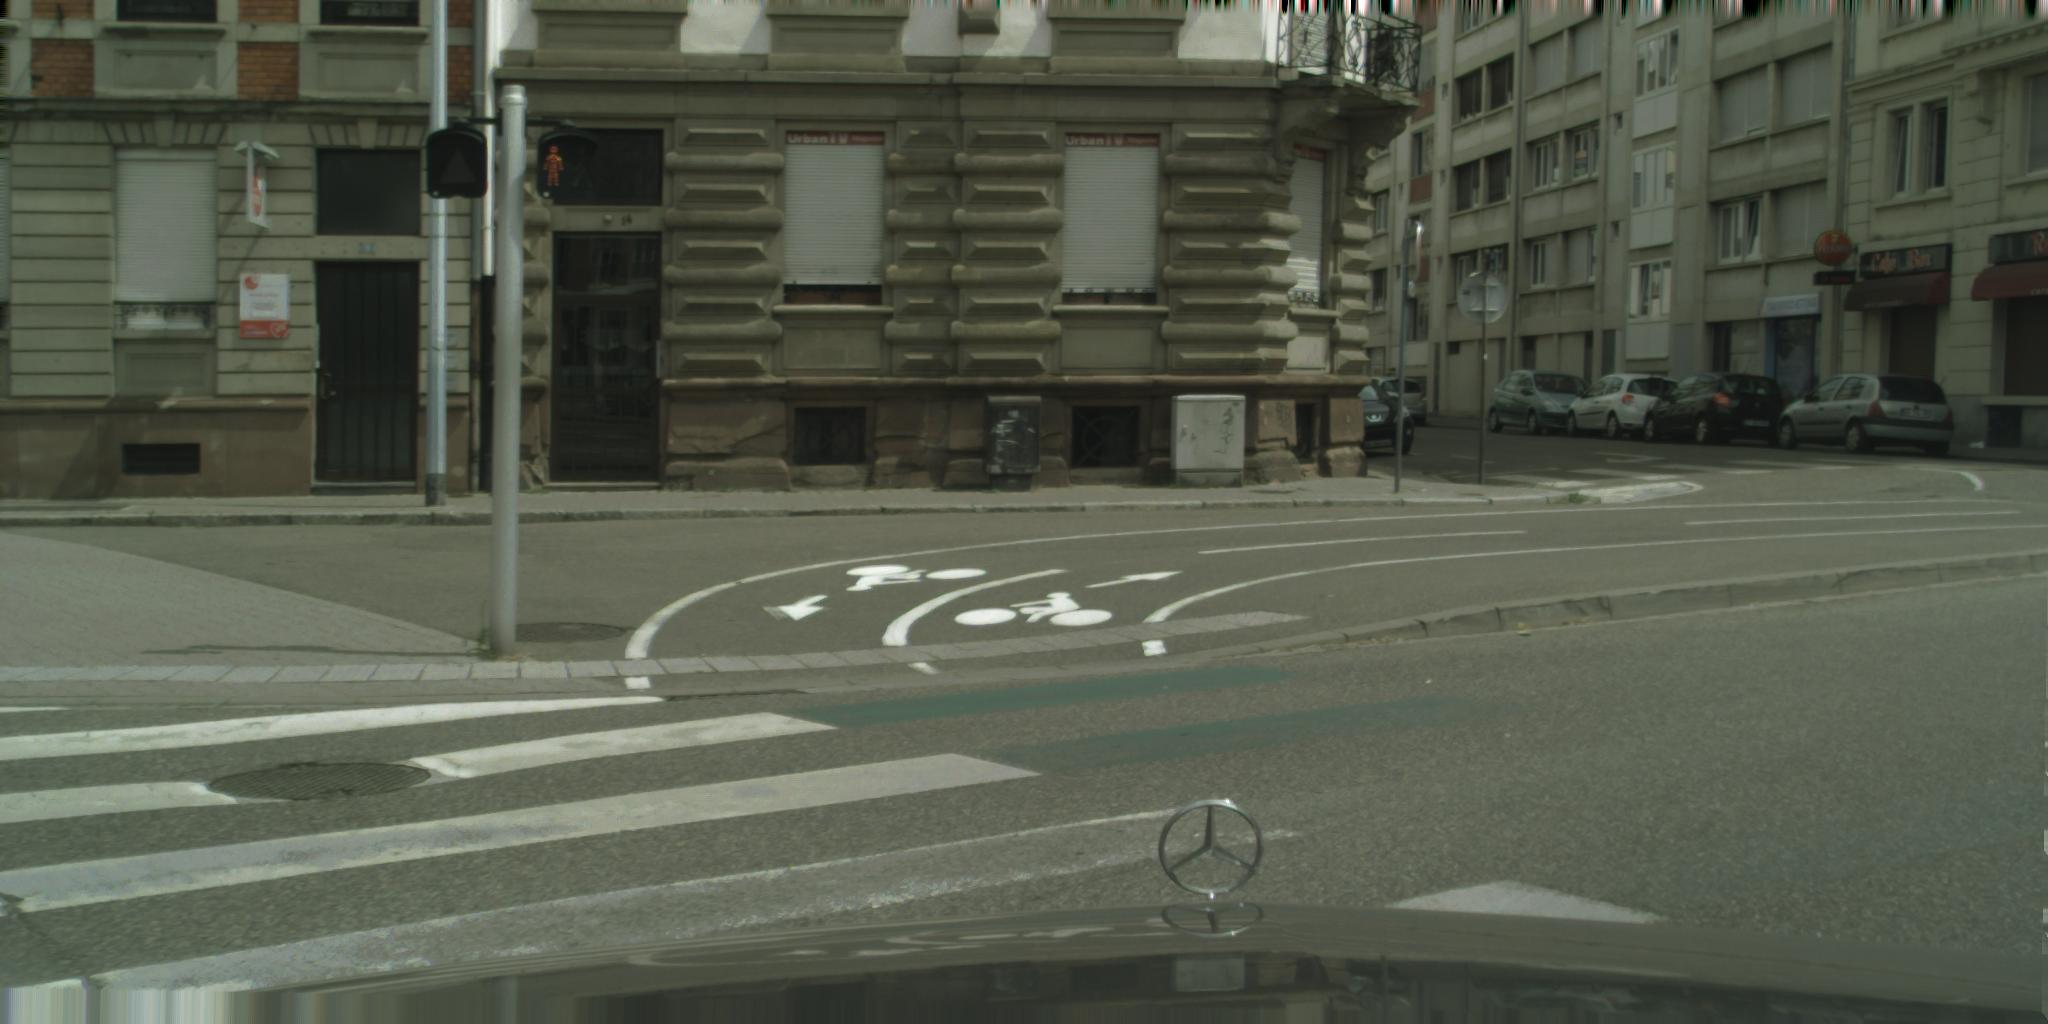car: (1778, 375, 1955, 460), (1643, 372, 1789, 451), (1566, 375, 1684, 441), (1490, 370, 1595, 438), (1353, 379, 1415, 455), (1362, 377, 1428, 424)
